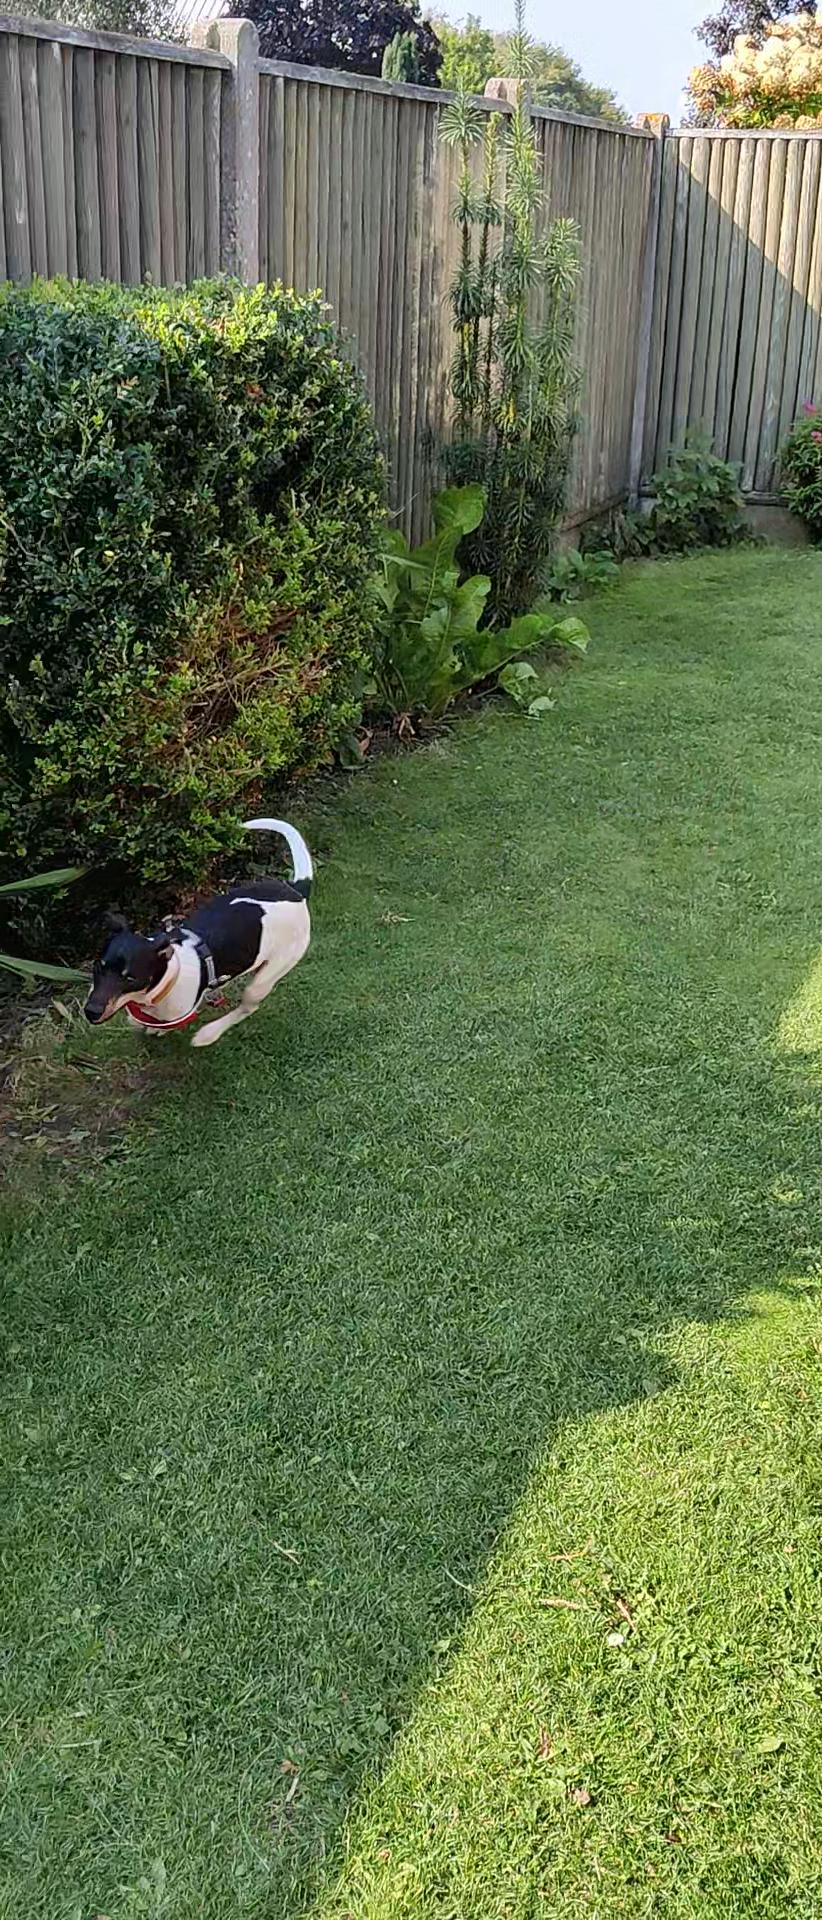Dog: (66, 816, 336, 1056)
